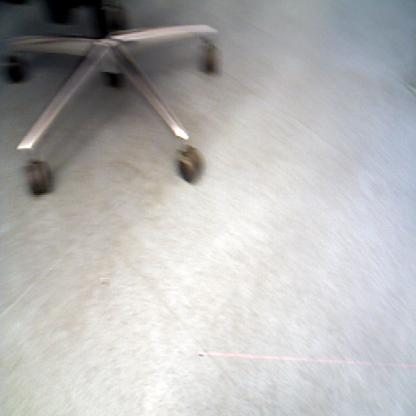mark: (100, 278, 110, 287), (198, 352, 204, 360)
